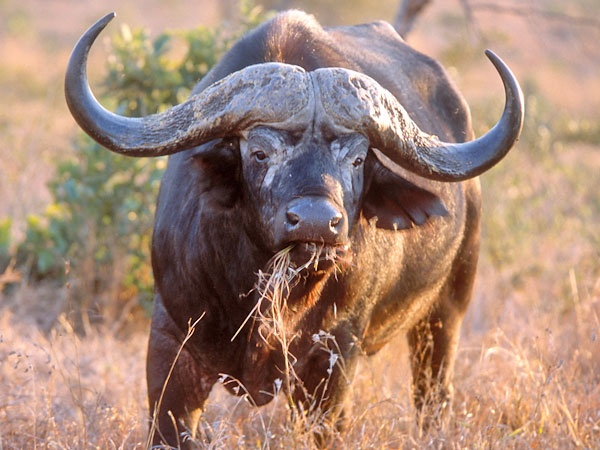buffalo: (66, 9, 527, 450)
